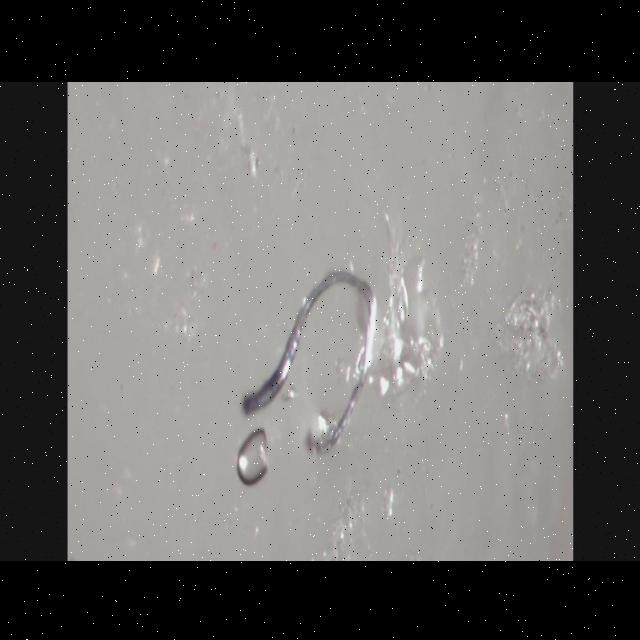Fibre: (238, 208, 446, 482)
